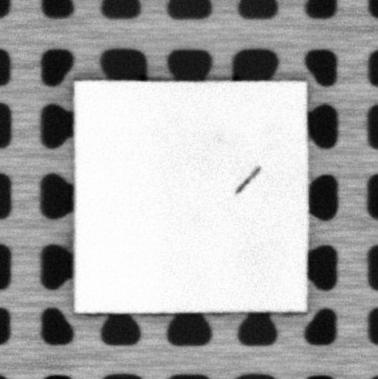DIE_INK: (233, 165, 262, 194)
